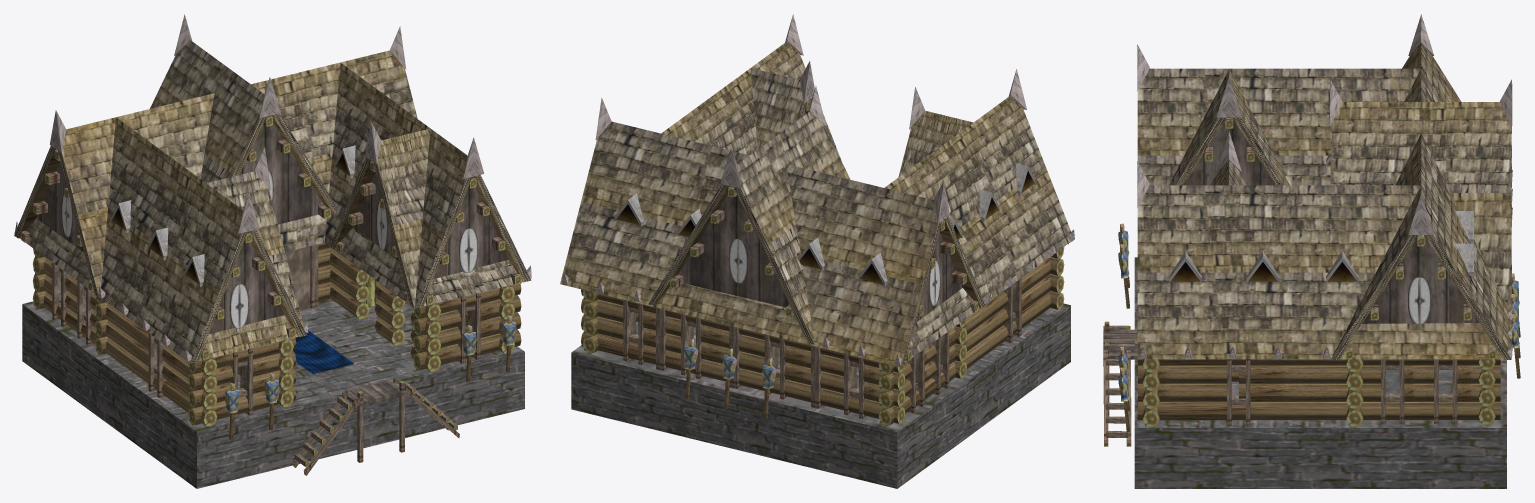
Rendered from barracks.dae.
The picture shows the model from 3 angles, left to right: view 1: azimuth 30°, elevation 25°; view 2: azimuth 150°, elevation 25°; view 3: azimuth 270°, elevation 25°; orthographic projection. The views are drawn at different scales.
Parts seen in each view (by area): view 1: barracks; view 2: barracks; view 3: barracks.
Part boxes in pixels (left/top/right/bottom): barracks: left=14, top=14, right=531, bottom=488; barracks: left=560, top=14, right=1074, bottom=488; barracks: left=1103, top=14, right=1520, bottom=488.
Size of the model in its own units: 22.55 by 22.15 by 19.05.
